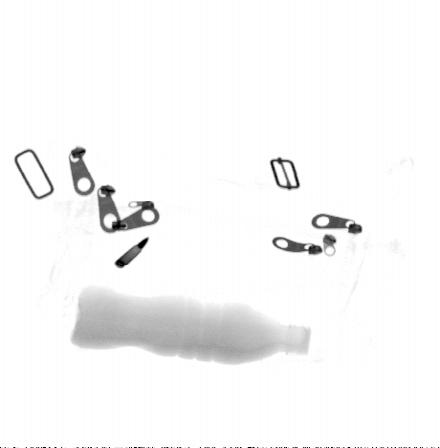Bullet: (115, 237, 149, 269)
